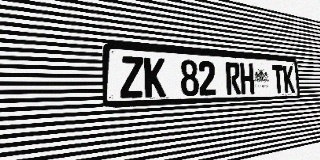2: (198, 60, 216, 96)
8: (180, 59, 199, 96)
H: (240, 63, 254, 94)
K: (144, 57, 166, 98), (283, 65, 295, 93)
R: (225, 62, 241, 95)
T: (272, 65, 284, 93)
Z: (120, 56, 144, 98)
